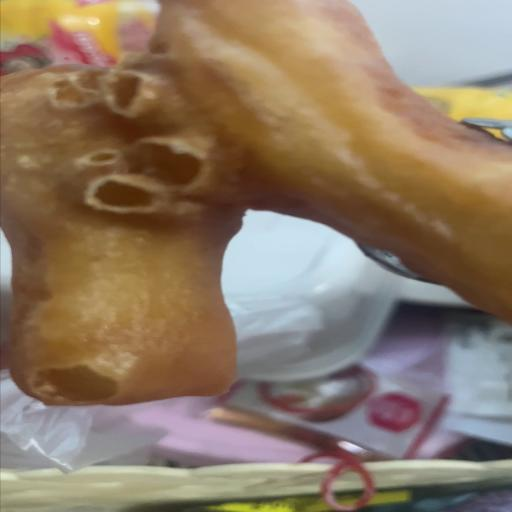street_burnt_defect: (0, 0, 512, 405)
